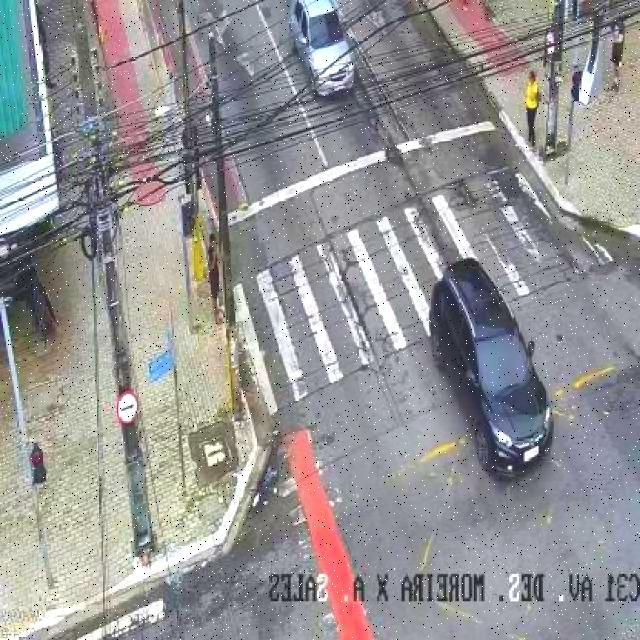Car: (428, 257, 554, 478), (288, 0, 356, 98)
